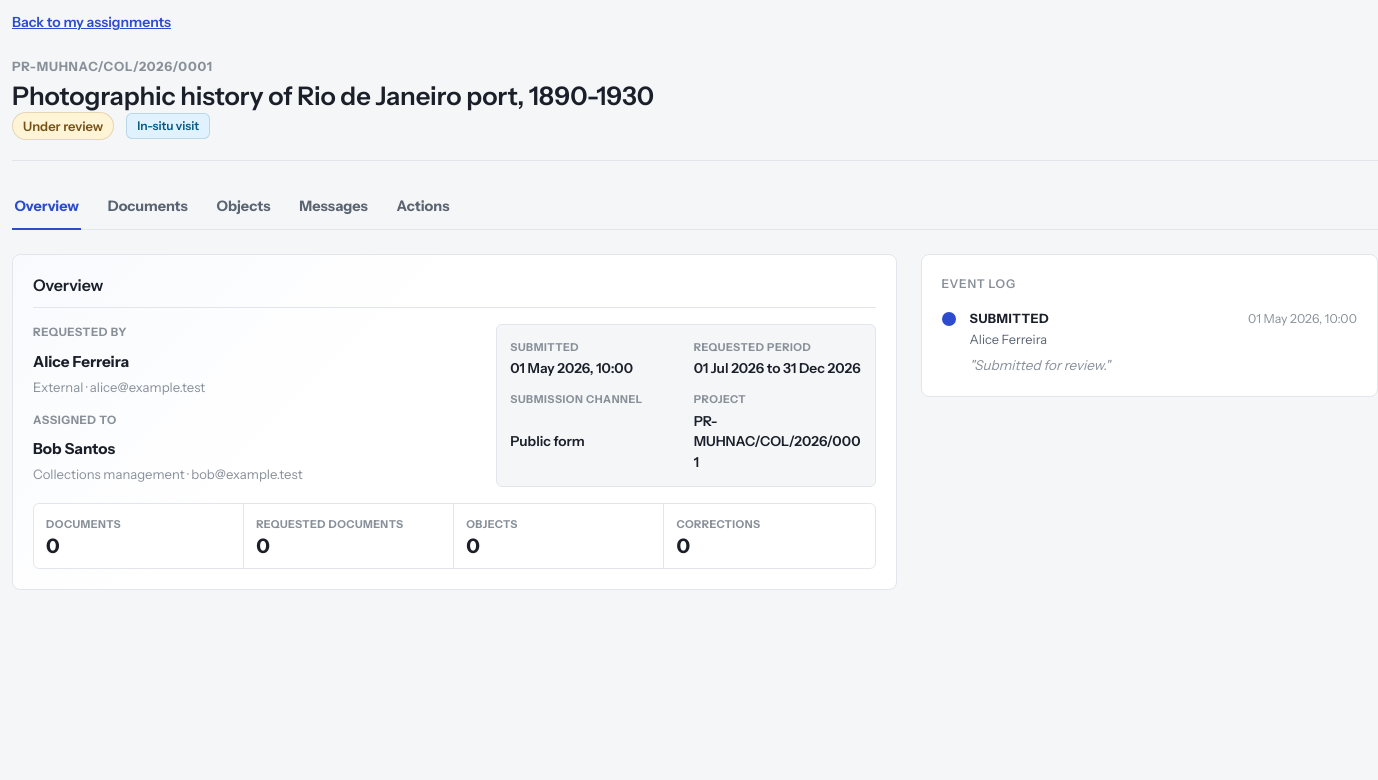
Scenario: ProposalMyDetailPageComponent › hides the staff reply composer for public proposals without an active requester user
The image size is (1378, 780).
Click the tab "Messages".
click(334, 207)  # box left=297, top=185, right=370, bottom=230
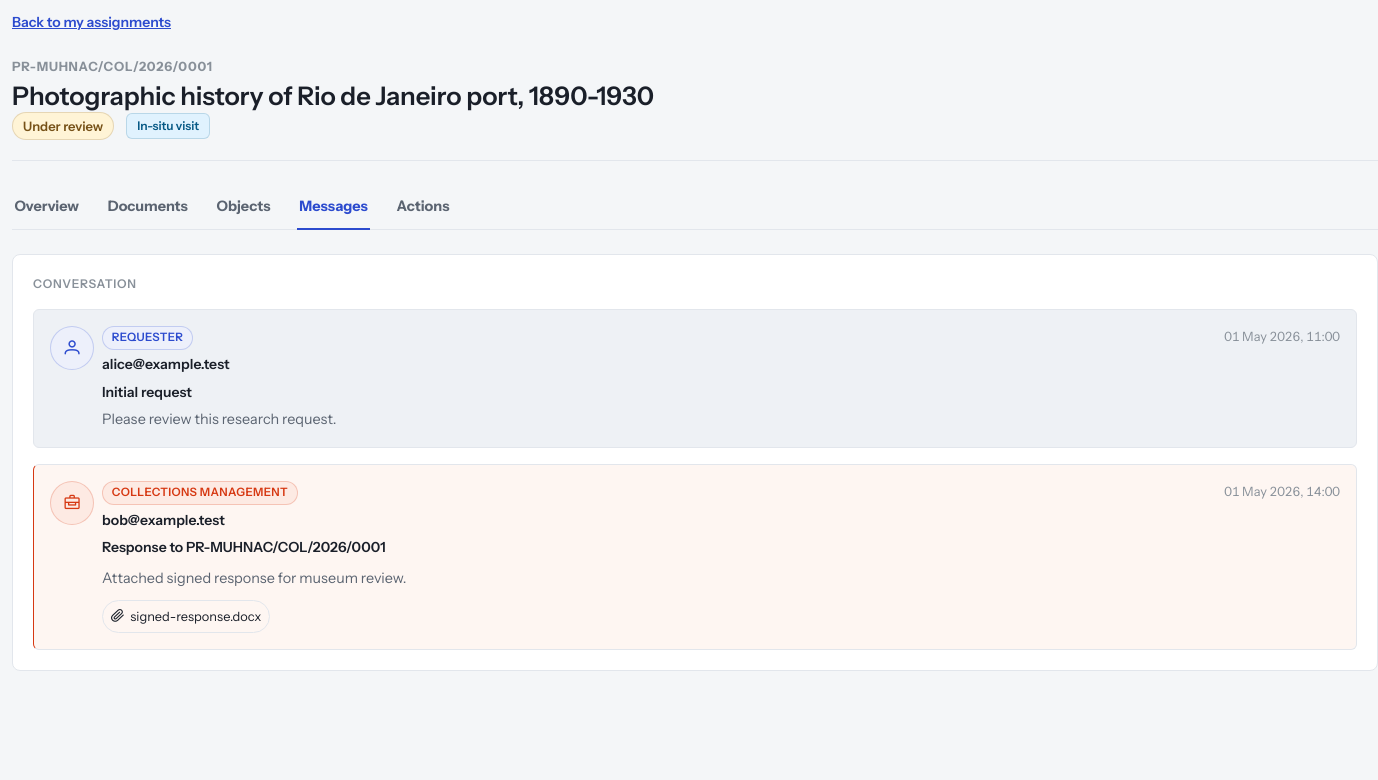
Expected: the text "Initial request" is shown, left=102, top=383, right=192, bottom=401
